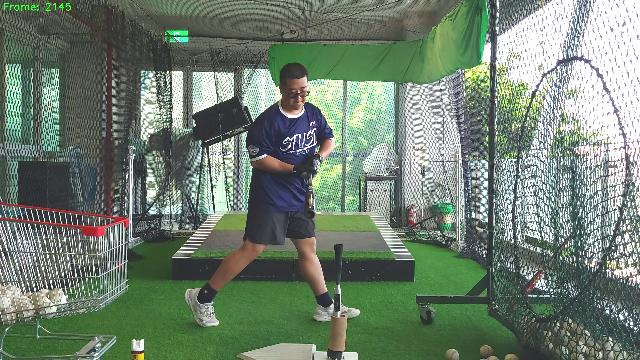bat: (303, 173, 315, 218)
